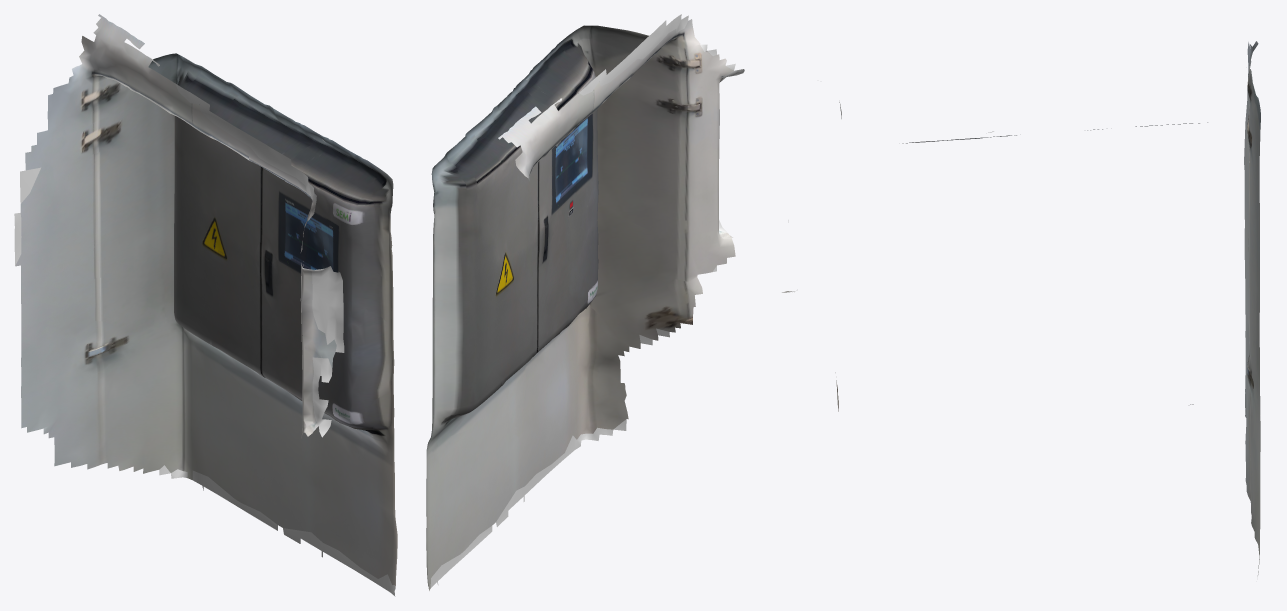
3 views of the same model, side by side, from view 1: azimuth 30°, elevation 25°; view 2: azimuth 150°, elevation 25°; view 3: azimuth 270°, elevation 25° (orthographic). The views are drawn at different scales.
Parts seen in each view (by area): view 1: texture_0, object 1; view 2: texture_0, object 1; view 3: texture_0.
Part boxes in pixels (bbox=[...]): texture_0: bbox=[15, 14, 397, 586]; object 1: bbox=[14, 64, 395, 596]; texture_0: bbox=[426, 19, 735, 590]; object 1: bbox=[428, 14, 744, 589]; texture_0: bbox=[782, 41, 1260, 572].
Bounding box in the file's own units: 0.7345 × 1.66 × 1.4.
2 materials, 1 textured.
